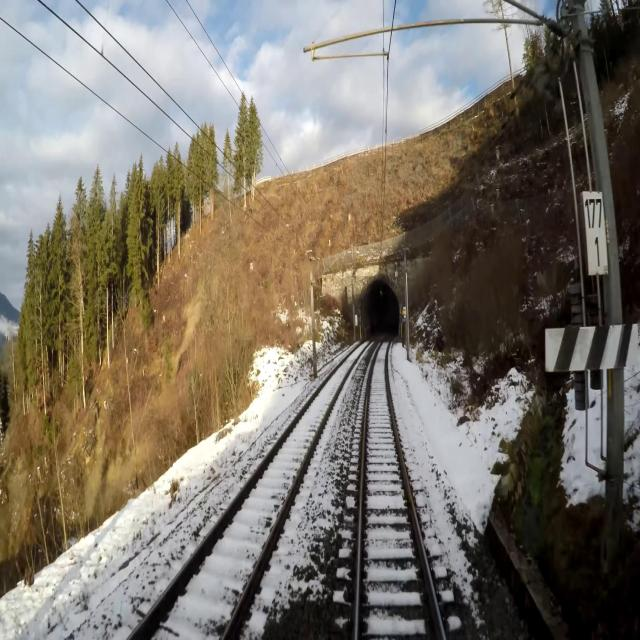rail-track: (132, 341, 367, 639), (359, 331, 442, 639)
